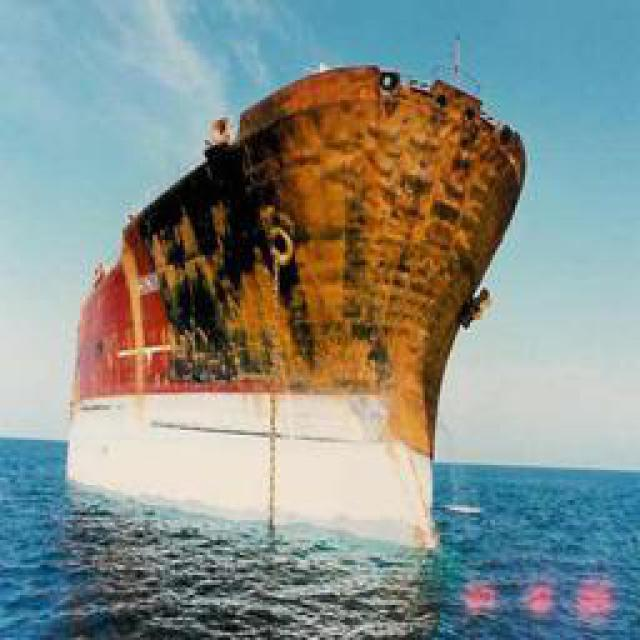Ship: (64, 67, 529, 560)
